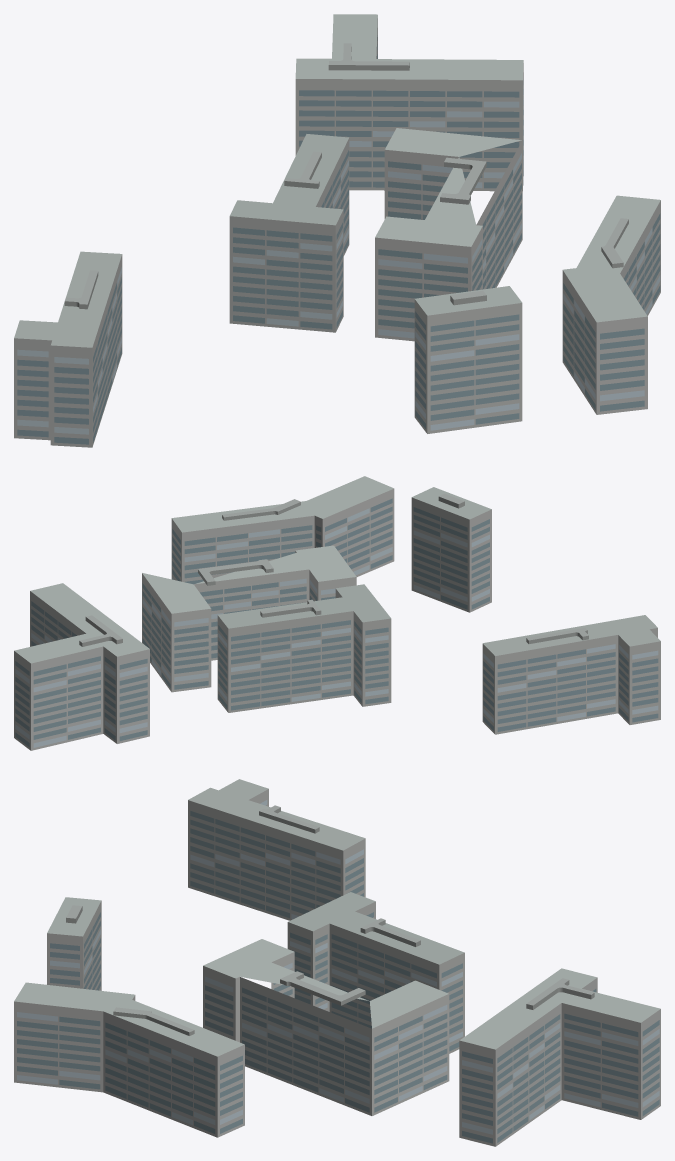
Rendered from apt-a15108001.glb.
3 views of the same model, one above another, from view 1: azimuth 30°, elevation 25°; view 2: azimuth 150°, elevation 25°; view 3: azimuth 270°, elevation 25° (orthographic). The views are drawn at different scales.
Parts seen in each view (by area): view 1: apt-a15108001; view 2: apt-a15108001; view 3: apt-a15108001.
Boxes of the visible parts, x1,y1,x2,y2 form: apt-a15108001: (14, 14, 660, 447); apt-a15108001: (14, 476, 660, 750); apt-a15108001: (14, 779, 660, 1146).
Bounding box in the file's own units: 177 × 32 × 173.
